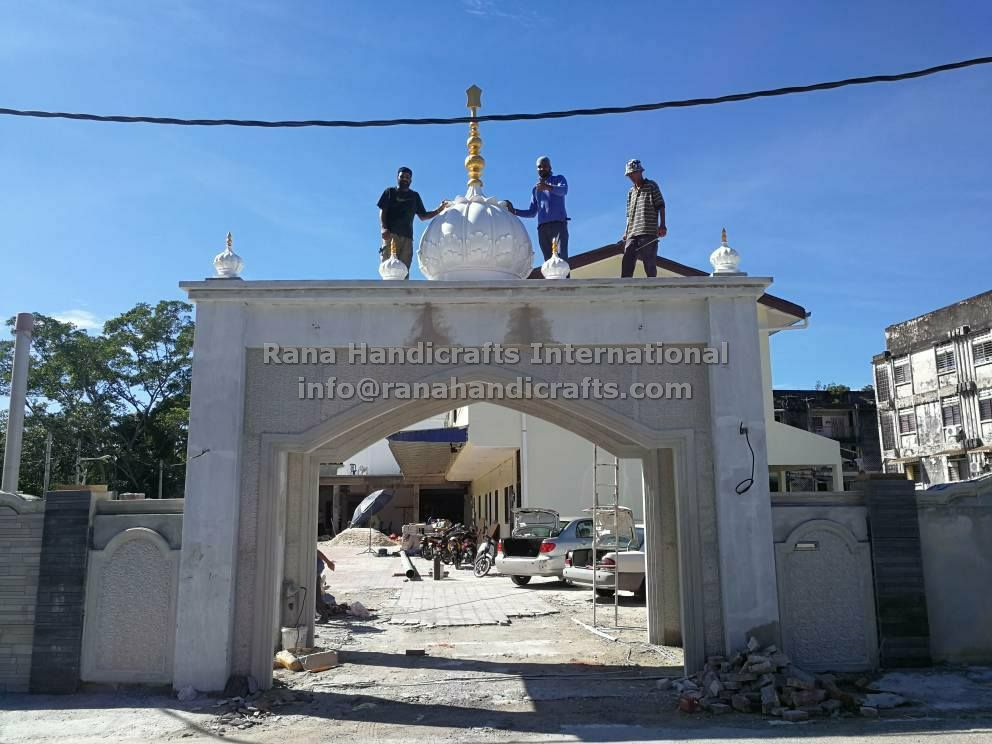Gurdwara: (140, 65, 769, 598)
